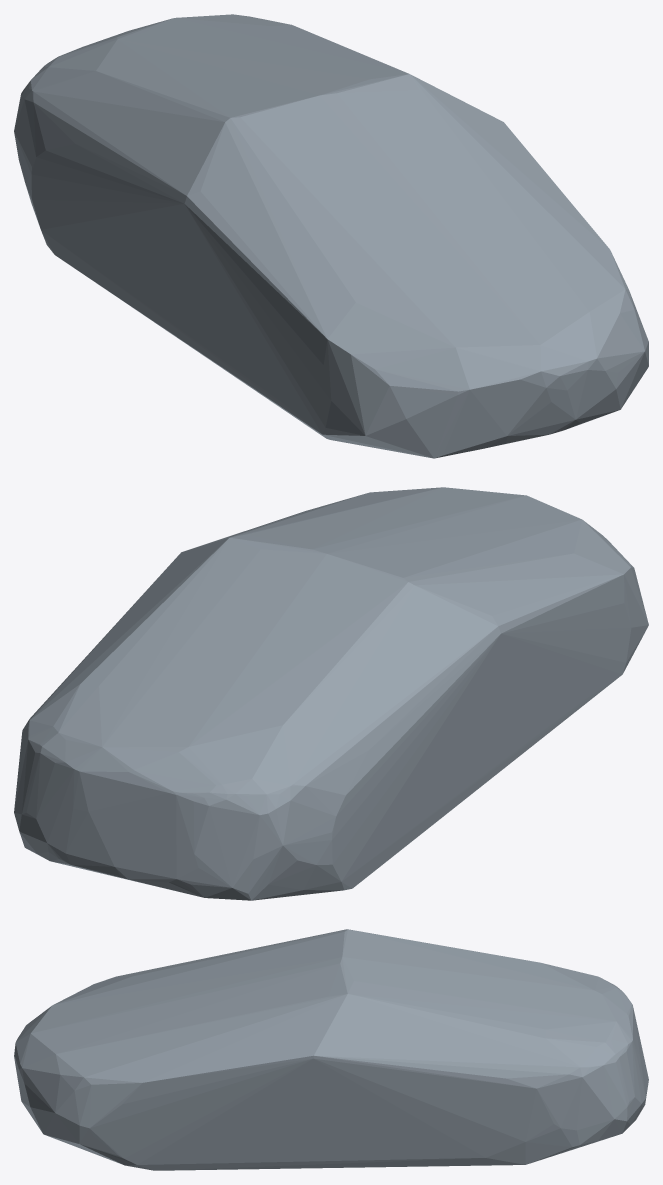
Rendered from mercedes-sl63-collision.glb.
3 views of the same model, one above another, from view 1: azimuth 30°, elevation 25°; view 2: azimuth 150°, elevation 25°; view 3: azimuth 270°, elevation 25° (orthographic). The views are drawn at different scales.
Parts seen in each view (by area): view 1: mercedes-sl63_collision; view 2: mercedes-sl63_collision; view 3: mercedes-sl63_collision.
Boxes of the visible parts, bbox=[...] form: mercedes-sl63_collision: bbox=[14, 14, 648, 458]; mercedes-sl63_collision: bbox=[14, 487, 648, 900]; mercedes-sl63_collision: bbox=[14, 929, 648, 1170].
Size of the model in its own units: 2.03 by 1.33 by 4.71.
